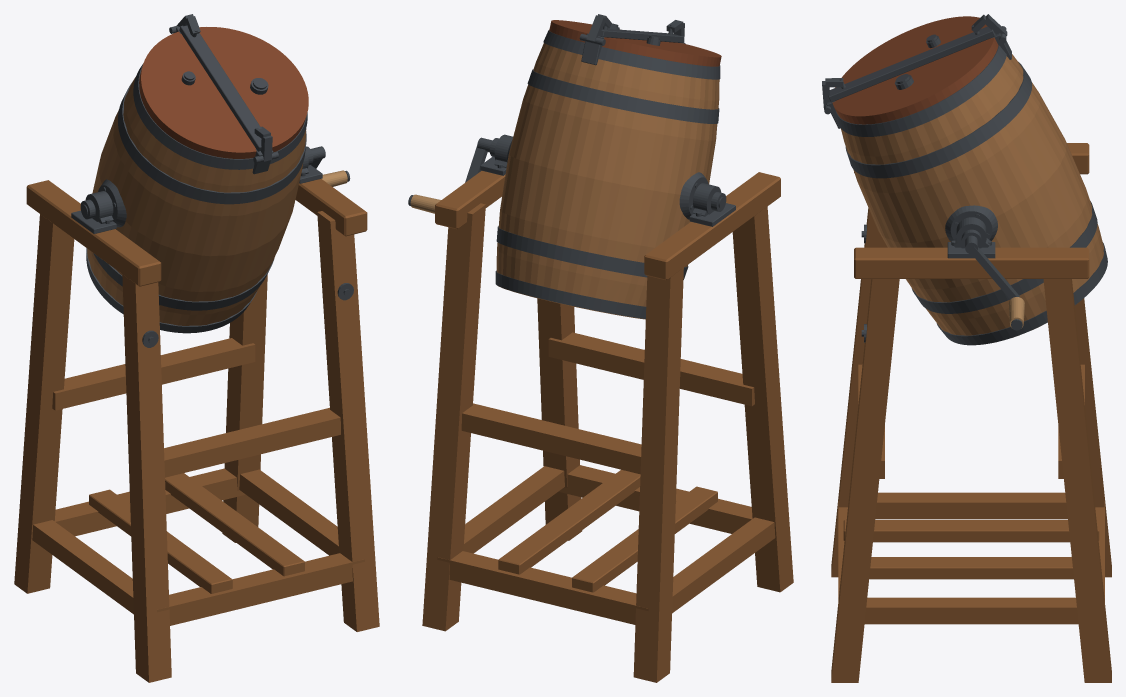
Rendered from NEW459_barrel_churn_LOD1.glb.
3 views of the same model, side by side, from view 1: azimuth 30°, elevation 25°; view 2: azimuth 150°, elevation 25°; view 3: azimuth 270°, elevation 25° (orthographic). The views are drawn at different scales.
Visible parts, largest first — view 1: Coopered_barrel_closed_bottom_inner_wall, Secured_lid_disc, Stand_leg_-1_-1, Stand_leg_1_-1, Stand_leg_-1_1, Cross_lower_rail_-1, Cross_mid_rail_-1, Stand_leg_1_1, Cross_mid_rail_1, Top_bearing_rail_-1, Bottom_platform_slat_0.075, Side_lower_rail_-1 (+10 smaller); view 2: Coopered_barrel_closed_bottom_inner_wall, Stand_leg_-1_1, Stand_leg_1_1, Stand_leg_-1_-1, Cross_lower_rail_1, Cross_mid_rail_1, Stand_leg_1_-1, Cross_mid_rail_-1, Top_bearing_rail_-1, Bottom_platform_slat_0.075, Side_lower_rail_-1, Side_lower_rail_1 (+10 smaller); view 3: Coopered_barrel_closed_bottom_inner_wall, Stand_leg_1_1, Stand_leg_1_-1, Secured_lid_disc, Top_bearing_rail_1, Side_lower_rail_1, Side_lower_rail_-1, Bottom_platform_slat_0.075, Bottom_platform_slat_-0.075, Stand_leg_-1_-1, Iron_barrel_band_2, Iron_barrel_band_3 (+11 smaller).
Boxes of the visible parts, <box> form: Coopered_barrel_closed_bottom_inner_wall: <box>87,77,306,325</box>; Secured_lid_disc: <box>139,27,308,158</box>; Stand_leg_-1_-1: <box>122,274,171,682</box>; Stand_leg_1_-1: <box>317,211,379,631</box>; Stand_leg_-1_1: <box>14,214,74,593</box>; Cross_lower_rail_-1: <box>157,553,364,625</box>; Cross_mid_rail_-1: <box>164,407,340,477</box>; Stand_leg_1_1: <box>222,274,267,542</box>; Cross_mid_rail_1: <box>52,338,255,410</box>; Top_bearing_rail_-1: <box>26,180,161,286</box>; Bottom_platform_slat_0.075: <box>165,473,304,576</box>; Side_lower_rail_-1: <box>32,520,133,614</box>; Coopered_barrel_closed_bottom_inner_wall: <box>496,43,719,319</box>; Stand_leg_-1_1: <box>633,268,683,682</box>; Stand_leg_1_1: <box>422,203,485,631</box>; Stand_leg_-1_-1: <box>732,206,793,592</box>; Cross_lower_rail_1: <box>437,551,648,624</box>; Cross_mid_rail_1: <box>461,403,641,474</box>; Stand_leg_1_-1: <box>537,298,582,540</box>; Cross_mid_rail_-1: <box>548,332,754,406</box>; Top_bearing_rail_-1: <box>644,172,780,280</box>; Bottom_platform_slat_0.075: <box>498,469,640,574</box>; Side_lower_rail_-1: <box>672,517,775,613</box>; Side_lower_rail_1: <box>463,466,564,553</box>; Coopered_barrel_closed_bottom_inner_wall: <box>840,54,1103,335</box>; Stand_leg_1_1: <box>1043,279,1111,682</box>; Stand_leg_1_-1: <box>831,279,899,682</box>; Secured_lid_disc: <box>832,16,998,124</box>; Top_bearing_rail_1: <box>854,247,1089,278</box>; Side_lower_rail_1: <box>864,597,1078,624</box>; Side_lower_rail_-1: <box>875,492,1067,519</box>; Bottom_platform_slat_0.075: <box>869,557,1073,579</box>; Bottom_platform_slat_-0.075: <box>843,520,1099,542</box>; Stand_leg_-1_-1: <box>831,208,887,577</box>; Iron_barrel_band_2: <box>845,62,1032,178</box>; Iron_barrel_band_3: <box>836,45,1006,136</box>.
Size of the model in its own units: 0.5945 by 1.16 by 0.4989.
